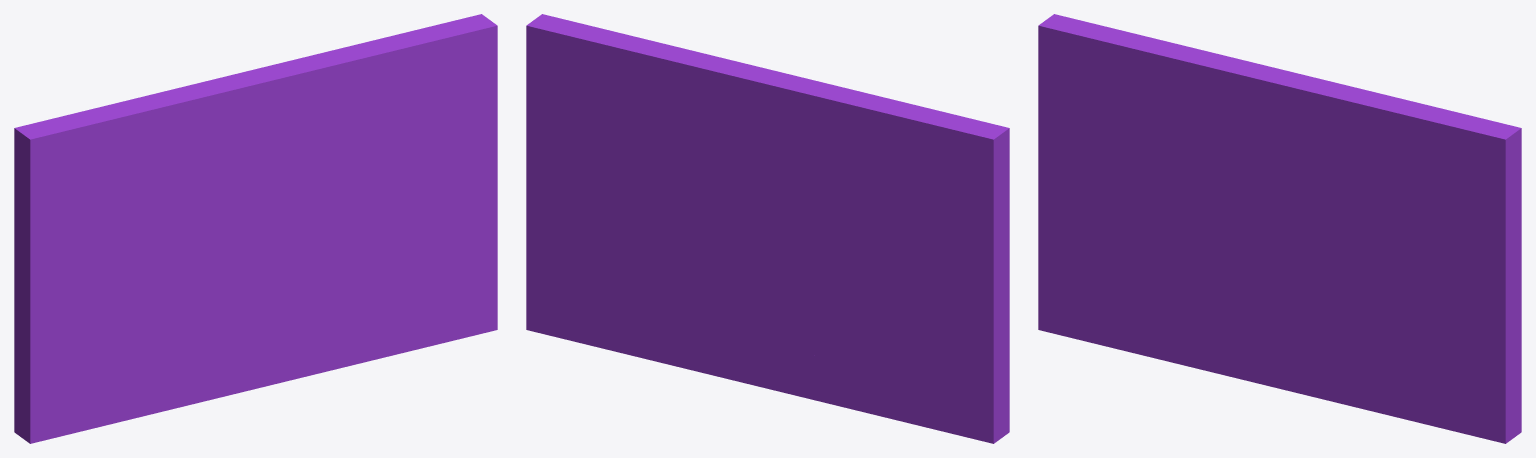
Rendered from Barrier_120_chunks.fbx.
The picture shows the model from 3 angles, left to right: view 1: azimuth 30°, elevation 25°; view 2: azimuth 150°, elevation 25°; view 3: azimuth 330°, elevation 25°; orthographic projection.
Visible parts, largest first — view 1: Barrier_120_1, Barrier_120_6, Barrier_120_4, Barrier_120_2, Barrier_120_7, Barrier_120_3, Barrier_120_9, Barrier_120_5; view 2: Barrier_120_1, Barrier_120_8, Barrier_120_4, Barrier_120_5, Barrier_120_7, Barrier_120_3, Barrier_120_9, Barrier_120_0, Barrier_120_2; view 3: Barrier_120_1, Barrier_120_6, Barrier_120_4, Barrier_120_2, Barrier_120_3, Barrier_120_7, Barrier_120_9, Barrier_120_8, Barrier_120_5.
Part boxes in pixels (x1,y1,x2,y2): Barrier_120_1: (14,93,262,443); Barrier_120_6: (335,169,497,361); Barrier_120_4: (235,14,497,147); Barrier_120_2: (162,82,349,234); Barrier_120_7: (186,279,367,405); Barrier_120_3: (333,69,497,214); Barrier_120_9: (242,195,404,282); Barrier_120_5: (158,72,244,96); Barrier_120_1: (777,93,1009,443); Barrier_120_8: (526,169,688,358); Barrier_120_4: (526,14,789,142); Barrier_120_5: (671,81,854,222); Barrier_120_7: (643,277,836,405); Barrier_120_3: (526,66,703,218); Barrier_120_9: (627,198,779,279); Barrier_120_0: (715,207,778,273); Barrier_120_2: (732,74,866,218); Barrier_120_1: (1038,14,1271,367); Barrier_120_6: (1343,264,1521,443); Barrier_120_4: (1258,70,1521,189); Barrier_120_2: (1181,52,1357,248); Barrier_120_3: (1342,168,1521,283); Barrier_120_7: (1194,271,1375,412); Barrier_120_9: (1250,234,1412,313); Barrier_120_8: (1513,272,1521,430); Barrier_120_5: (1193,49,1283,71).
Size of the model in its own units: 462 by 288 by 27.2.
